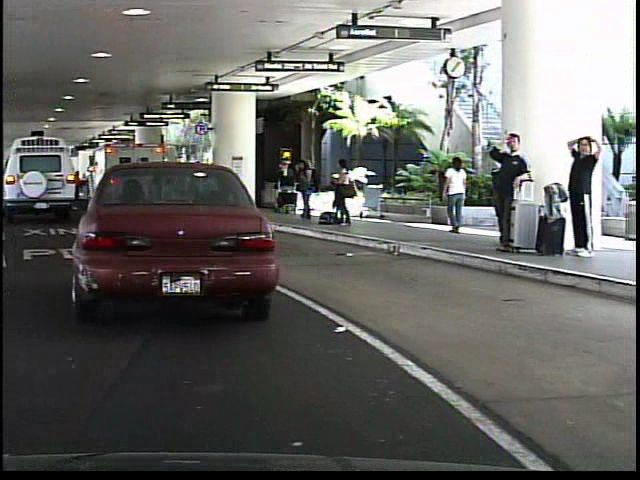person: (483, 128, 528, 253), (561, 125, 599, 259), (434, 154, 475, 235), (327, 157, 354, 227)
